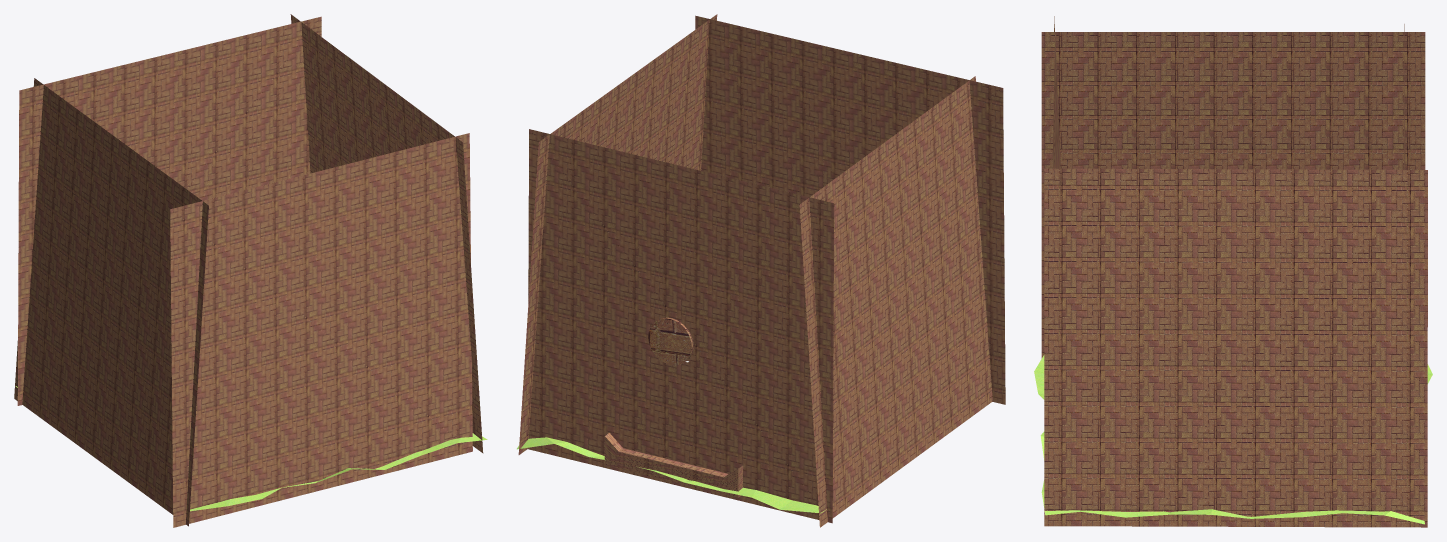
File: map1.dae
3 renders of one model, left to right at view 1: azimuth 30°, elevation 25°; view 2: azimuth 150°, elevation 25°; view 3: azimuth 270°, elevation 25°, orthographic. The views are drawn at different scales.
Parts seen in each view (by area): view 1: Plane_002, Plane, Plane_003, Plane_001, Grid; view 2: Plane_003, Plane, Plane_002, Plane_001, Cube, Grid, Cylinder; view 3: Plane_001, Plane, Grid, Plane_002.
Boxes of the visible parts, box(x1,y1,x2,y2) form: Plane_002: box(170, 133, 472, 527); Plane: box(14, 78, 208, 526); Plane_003: box(17, 16, 321, 405); Plane_001: box(290, 14, 483, 453); Grid: box(15, 386, 487, 511); Plane_003: box(528, 129, 834, 523); Plane: box(799, 76, 992, 527); Plane_002: box(695, 15, 1005, 404); Plane_001: box(518, 14, 717, 454); Cube: box(604, 433, 743, 497); Grid: box(517, 437, 826, 513); Cylinder: box(648, 317, 693, 365); Plane_001: box(1044, 168, 1427, 527); Plane: box(1041, 32, 1425, 358); Grid: box(1034, 355, 1432, 524); Plane_002: box(1052, 16, 1060, 401).
Bounding box in the file's own units: 14.83 × 14.63 × 14.07.
5 materials, 5 textured.
